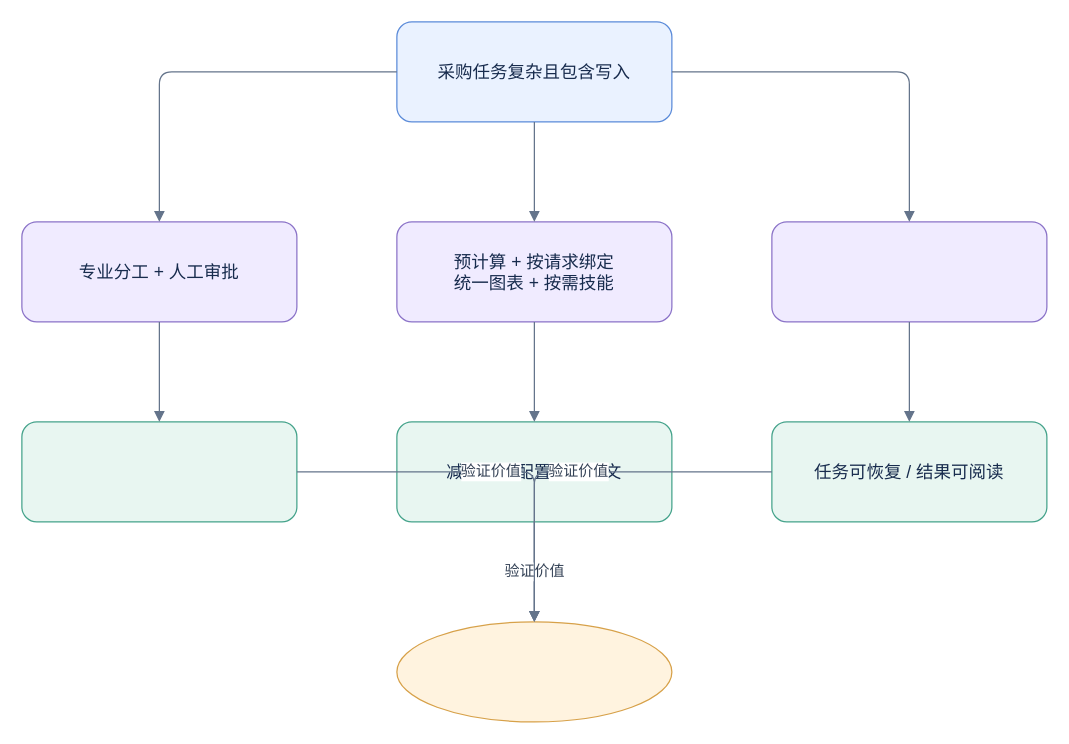
Image size: 1069x744. Some labels were removed from this diagram. Here are the shapes that lost their labels. From the top down, the centre of each, then its label:
At (x=909, y=271): "检查点 + 展示历史 沙箱代理 + 健康恢复".
At (x=159, y=471): "职责和业务动作可检查".
At (x=534, y=671): "真实任务评估 质量 / 成本 / 延迟 / 成功率".
